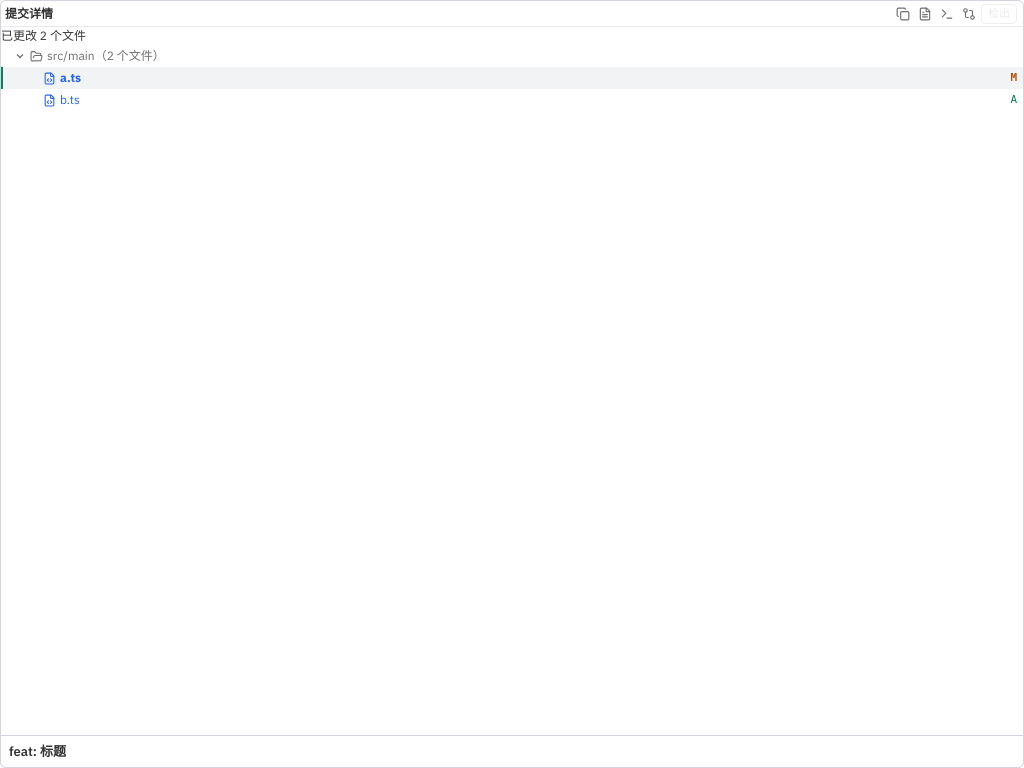
Scenario: GitCommitDetail 发送到会话 › Ctrl 多选后发送多个文件的绝对路径
The image size is (1024, 768).
Click the list item with aria-label "src/main/b.ts" at (50, 100), box left=1, top=89, right=1023, bottom=111
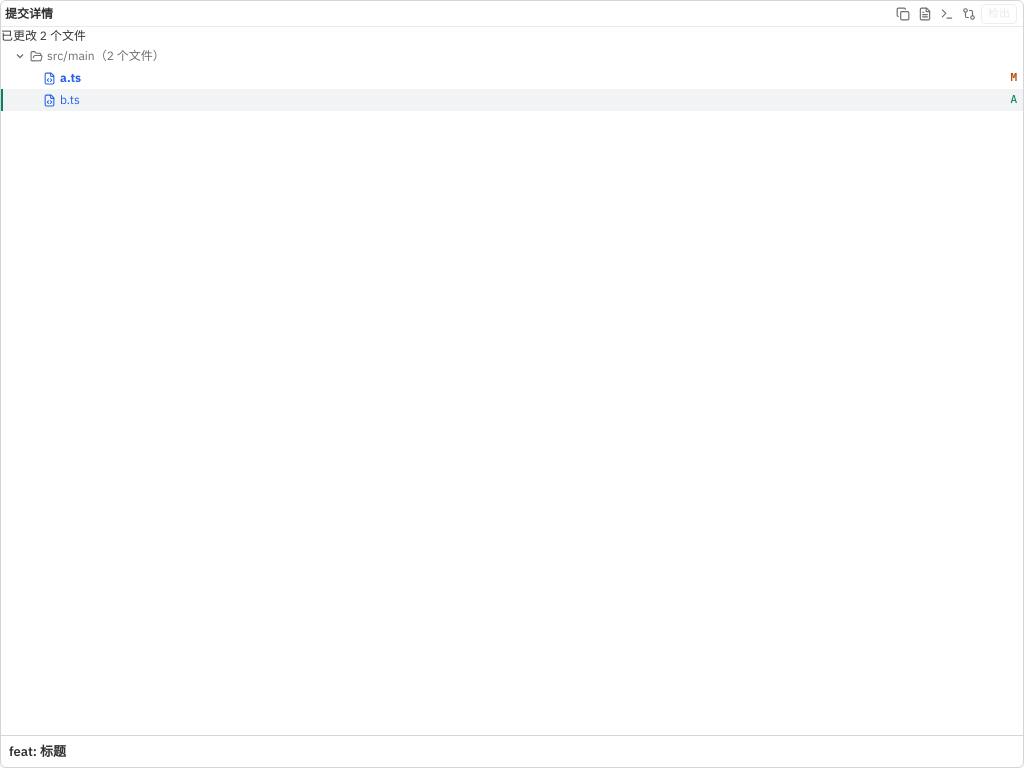
Click the list item with aria-label "src/main/a.ts" at (50, 78), box left=1, top=67, right=1023, bottom=89
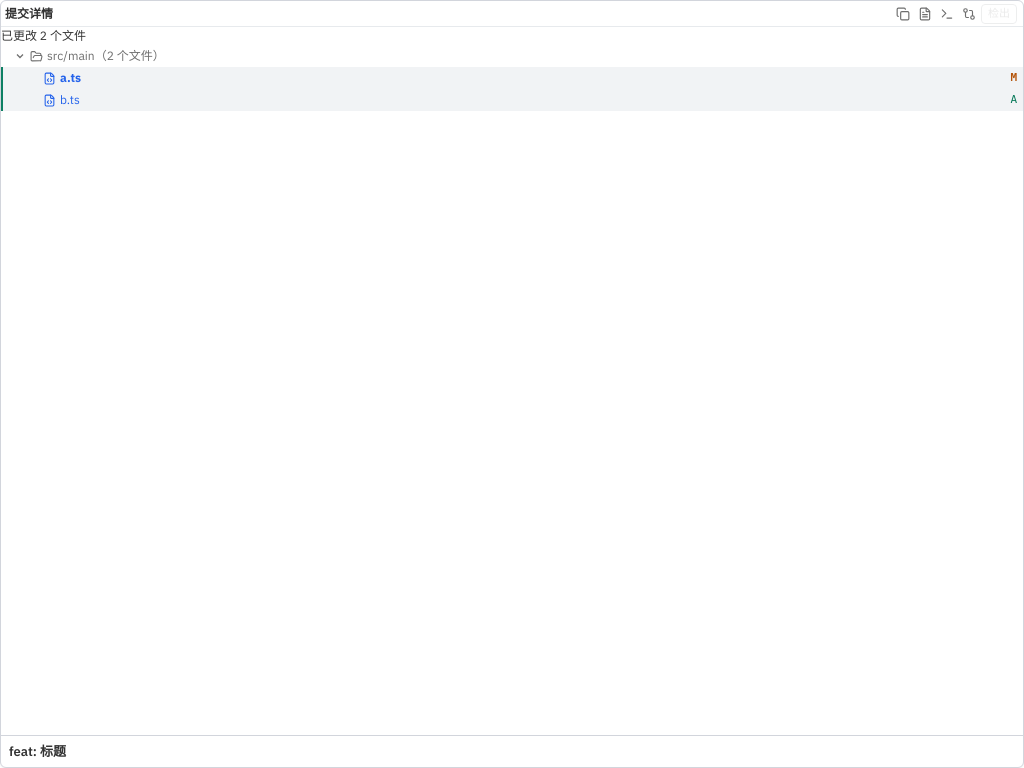
Right-click the list item with aria-label "src/main/a.ts" at (50, 78), box left=1, top=67, right=1023, bottom=89
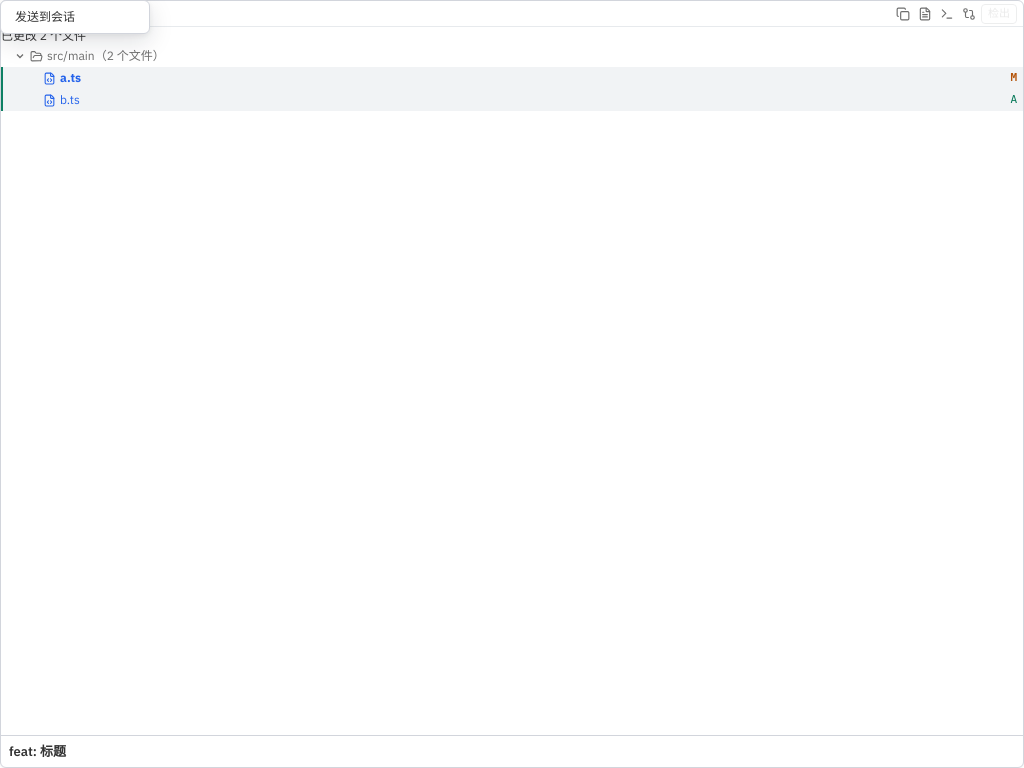
Click the menu item "发送到会话" at (75, 17), box left=5, top=5, right=145, bottom=29
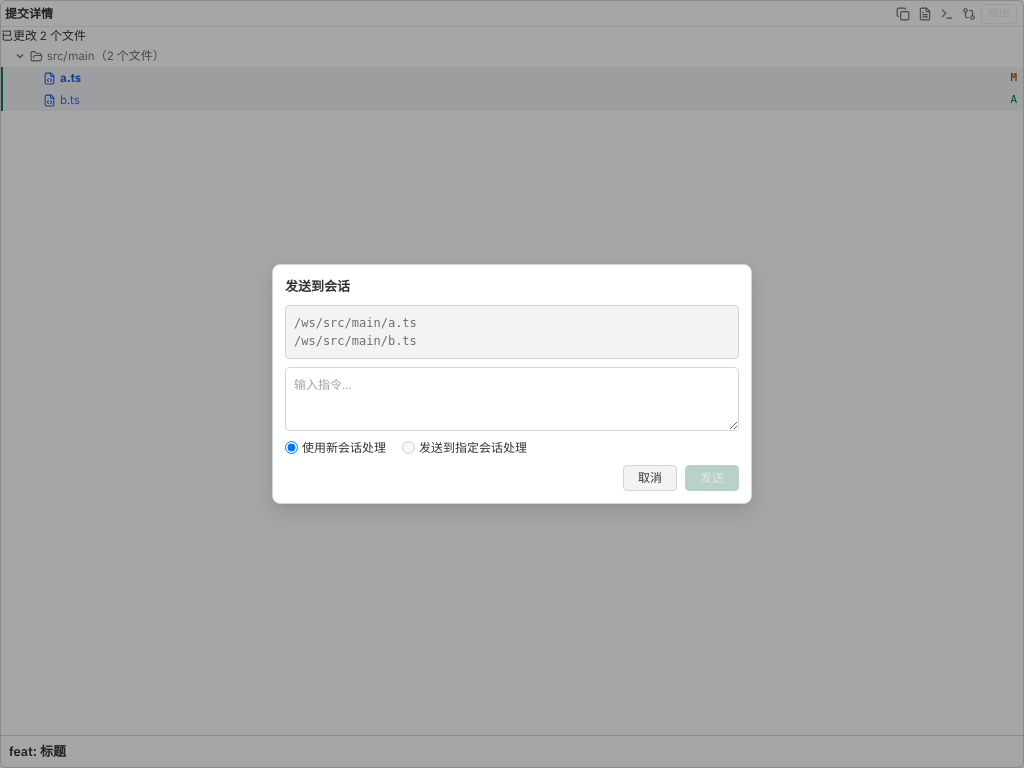
Result: the text with test id "pm-send-dialog-preview" shows "/ws/src/main/a.ts" at left=294, top=316, right=417, bottom=348
Result: the text with test id "pm-send-dialog-preview" shows "/ws/src/main/b.ts" at left=294, top=316, right=417, bottom=348
